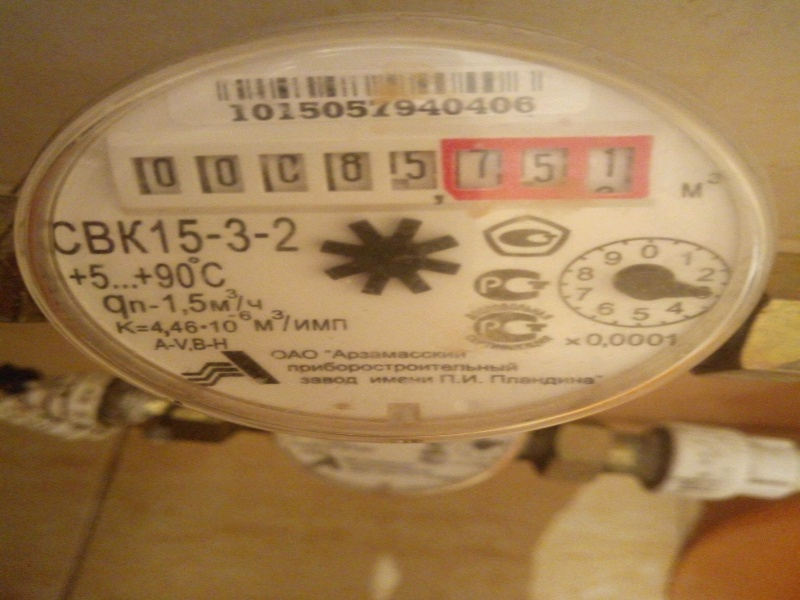meter: (104, 128, 653, 203)
